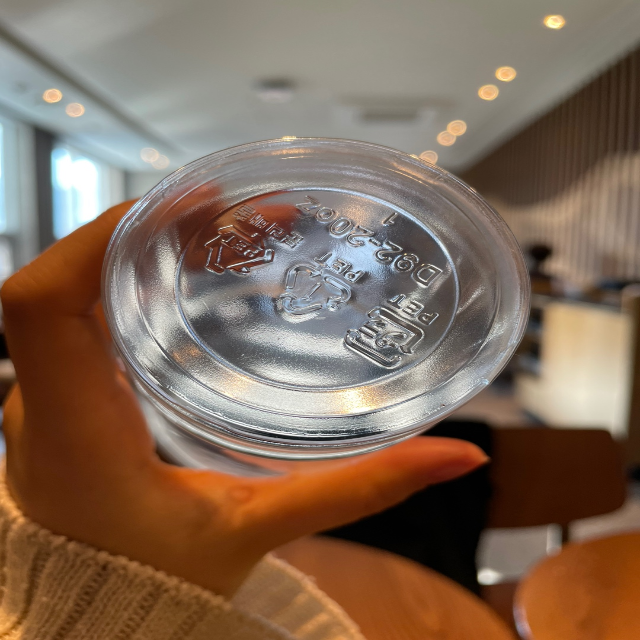pet: (339, 287, 444, 376), (198, 197, 300, 283), (274, 248, 367, 324)
